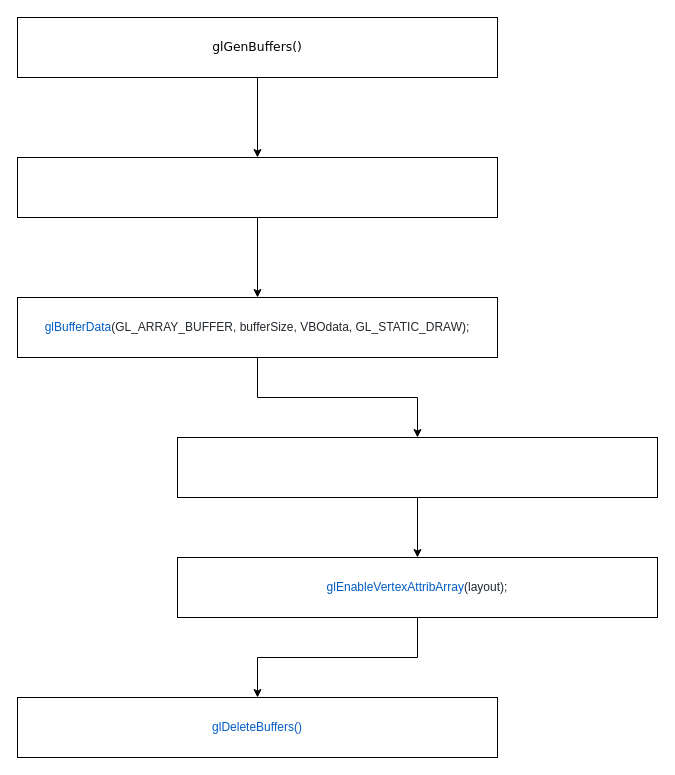
Image size: 675x775. Some labels were removed from this diagram. Here are the shapes that lost their labels. From the top down, the centre of each, then its label:
the point at 257,187: glBindBuffer (GL_ARRAY_BUFFER, VBO);
the point at 417,467: glVertexAttribPointer (layout, size, GL_FLOAT, GL_FALSE, stride, (GLvoid*) 0 );
